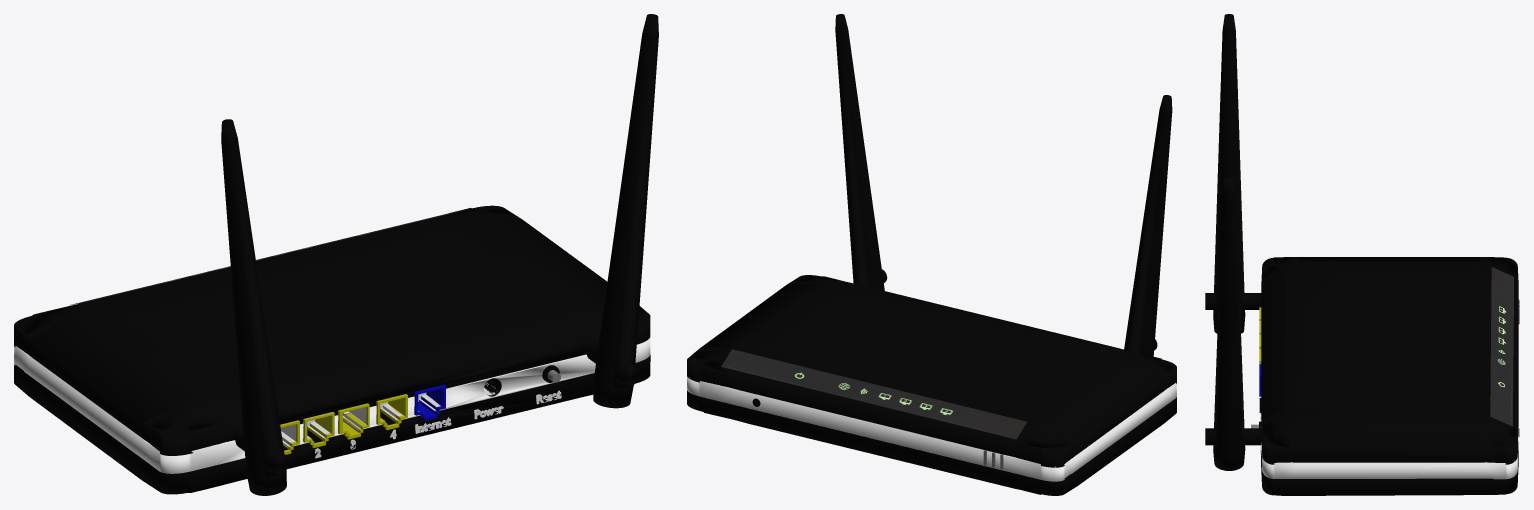
Rendered from Router.fbx.
The picture shows the model from 3 angles, left to right: view 1: azimuth 30°, elevation 25°; view 2: azimuth 150°, elevation 25°; view 3: azimuth 270°, elevation 25°; orthographic projection. The views are drawn at different scales.
Parts seen in each view (by area): view 1: Cylinder, Cube.002, Cube.008, Cube.009; view 2: Cylinder, Cube.002, Plane; view 3: Cylinder, Cube.002, Plane.
Part boxes in pixels (x1=…): Cylinder: x1=14, y1=14, x2=658, y2=495; Cube.002: x1=14, y1=337, x2=650, y2=473; Cube.008: x1=280, y1=394, x2=407, y2=454; Cube.009: x1=414, y1=384, x2=445, y2=420; Cylinder: x1=687, y1=14, x2=1176, y2=495; Cube.002: x1=687, y1=376, x2=1176, y2=481; Plane: x1=721, y1=349, x2=1026, y2=439; Cylinder: x1=1205, y1=14, x2=1519, y2=495; Cube.002: x1=1260, y1=396, x2=1518, y2=479; Plane: x1=1490, y1=267, x2=1514, y2=426.
Size of the model in its own units: 98.67 by 78.01 by 68.32.
Materials: 34 (1 with a texture image).
